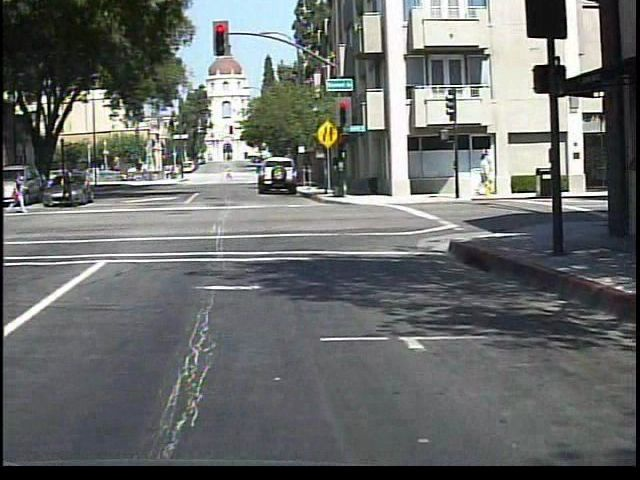person: (8, 169, 33, 220), (58, 166, 82, 210), (228, 165, 238, 183)
